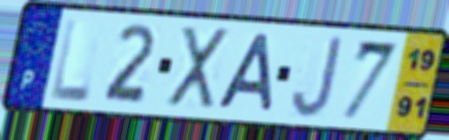2: (100, 22, 156, 106)
7: (340, 37, 401, 121)
A: (212, 31, 276, 115)
J: (289, 33, 345, 120)
L: (48, 16, 94, 104)
X: (165, 24, 232, 111)
